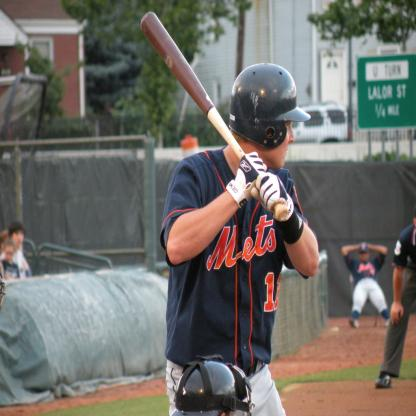Helmet: (223, 65, 307, 152)
